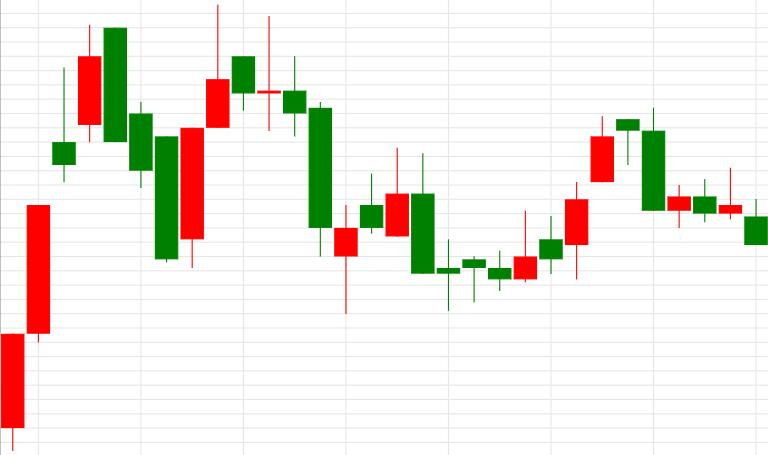bearish_engulfing_fall: (1, 24, 128, 450)
evening_star_fall: (513, 107, 664, 282)
